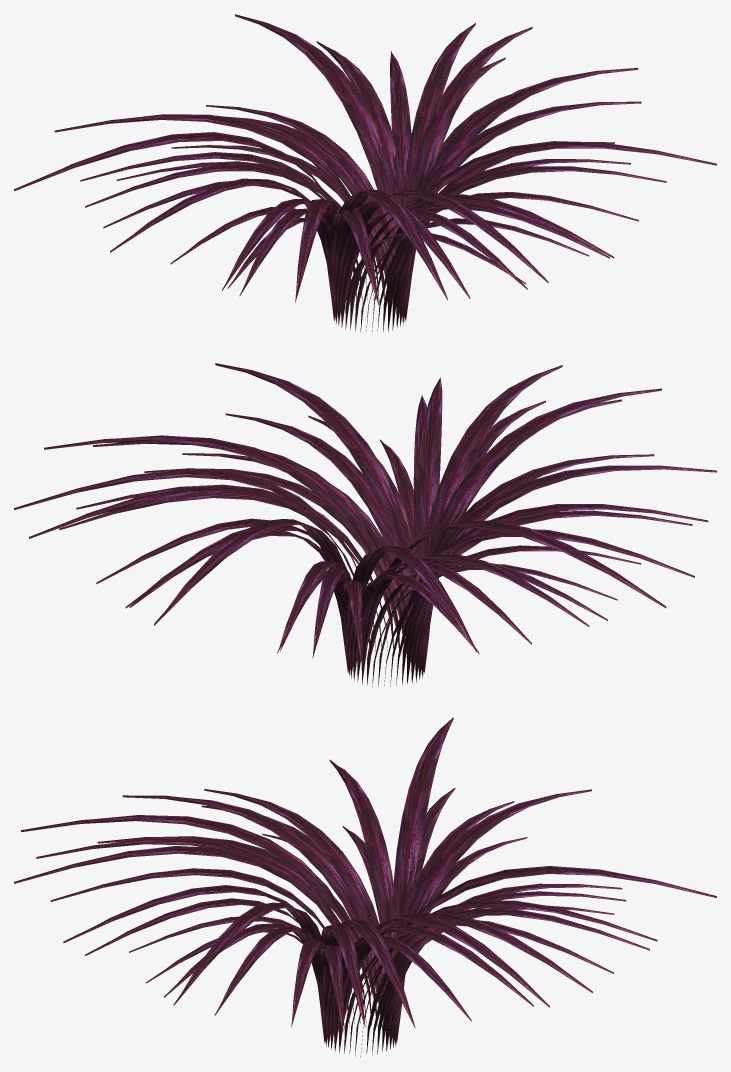
Rendered from finegrass_meadow_09.glb.
3 views of the same model, one above another, from view 1: azimuth 30°, elevation 25°; view 2: azimuth 150°, elevation 25°; view 3: azimuth 270°, elevation 25° (orthographic). The views are drawn at different scales.
Visible parts, largest first — view 1: export; view 2: export; view 3: export.
Boxes of the visible parts, x1,y1,x2,y2 form: export: [14, 14, 716, 331]; export: [14, 363, 716, 686]; export: [14, 717, 716, 1057].
Bounding box in the file's own units: 1.54 × 0.4849 × 1.54.
Materials: 1 (1 with a texture image).
